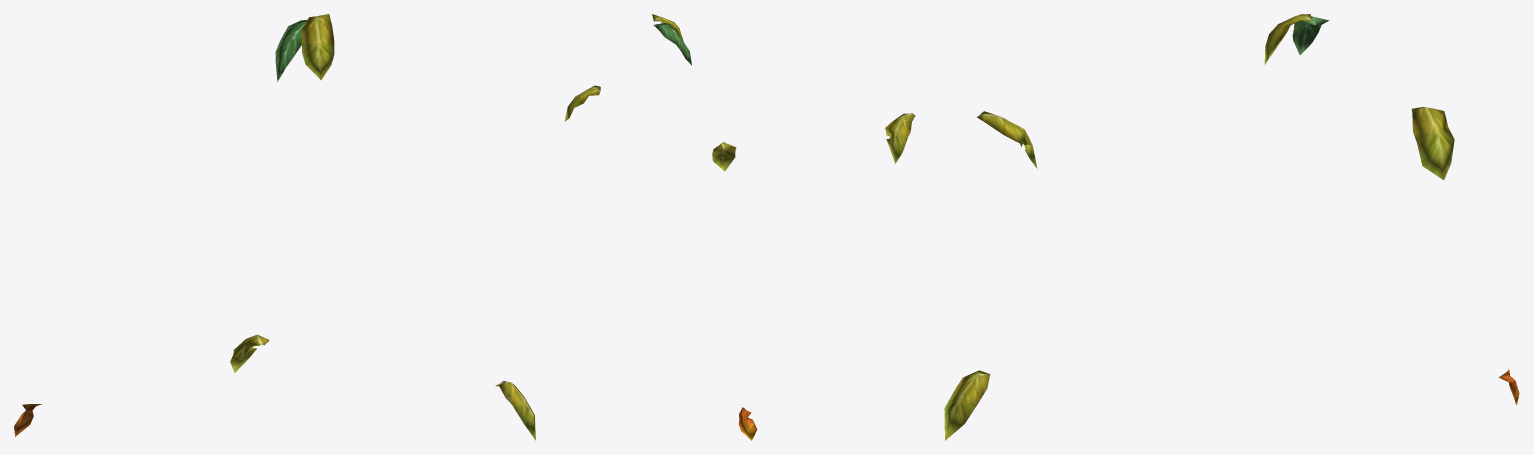
File: sfx_ct0121_die.glb
The picture shows the model from 3 angles, left to right: view 1: azimuth 30°, elevation 25°; view 2: azimuth 150°, elevation 25°; view 3: azimuth 270°, elevation 25°; orthographic projection. The views are drawn at different scales.
Visible parts, largest first — view 1: sfx_ct0121_die; view 2: sfx_ct0121_die; view 3: sfx_ct0121_die.
Boxes of the visible parts, left/top/right/bottom form: sfx_ct0121_die: left=14, top=14, right=535, bottom=440; sfx_ct0121_die: left=564, top=14, right=915, bottom=440; sfx_ct0121_die: left=944, top=14, right=1519, bottom=440.
Bounding box in the file's own units: 0.0175 × 0.0252 × 0.0255.
1 material, 1 textured.
